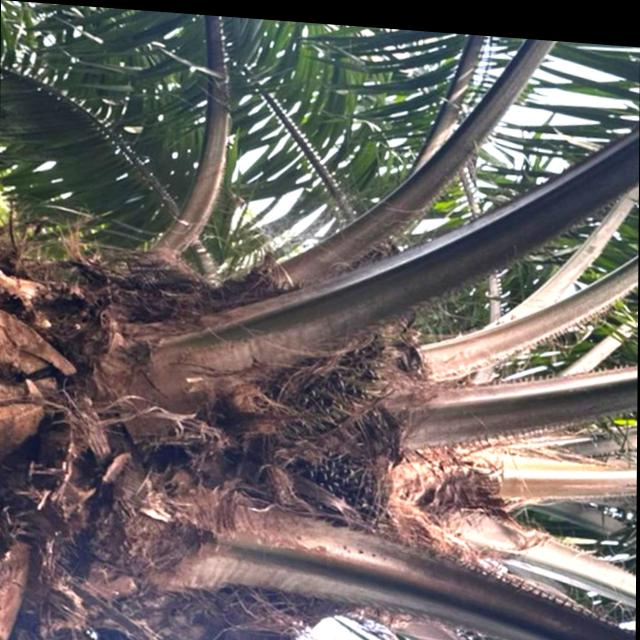unripe: (264, 314, 391, 442), (288, 449, 393, 532)
